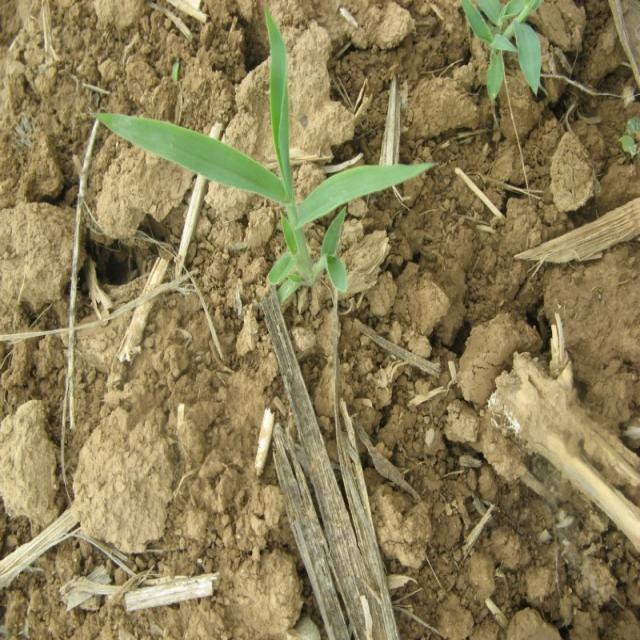bg: (94, 6, 433, 290)
